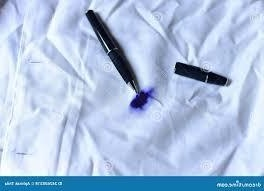ink: (131, 91, 154, 112)
